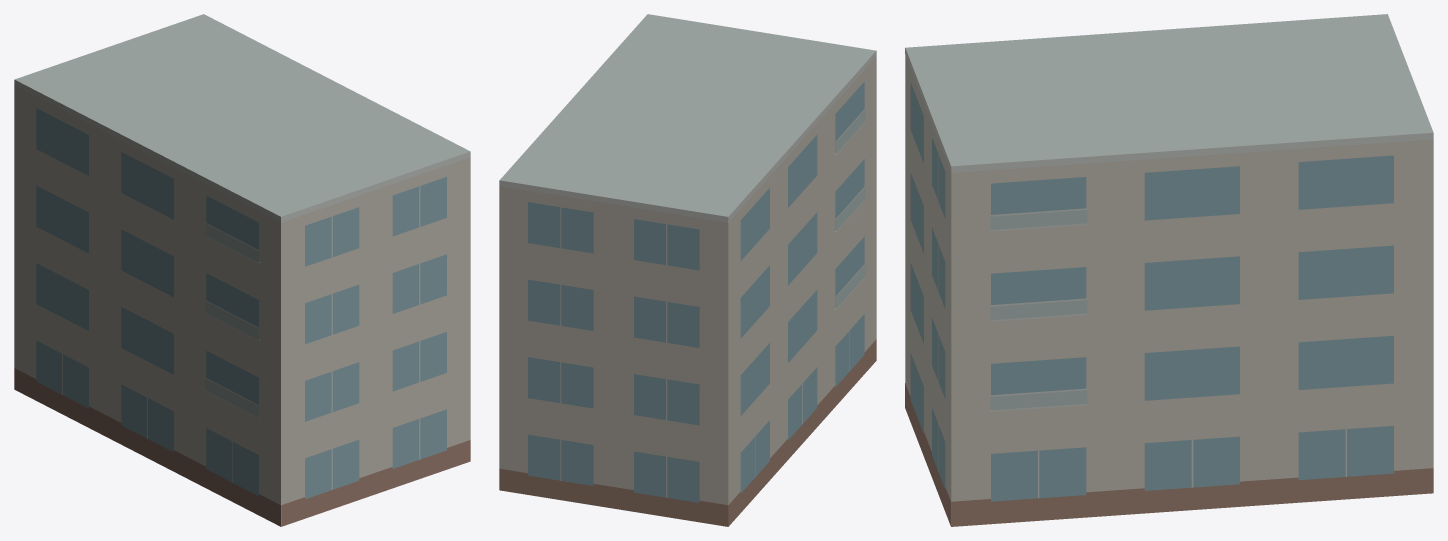
File: survey-upis-32838975.glb
3 renders of one model, left to right at view 1: azimuth 30°, elevation 25°; view 2: azimuth 150°, elevation 25°; view 3: azimuth 270°, elevation 25°, orthographic. The views are drawn at different scales.
Parts seen in each view (by area): view 1: survey-upis-32838975.tmp; view 2: survey-upis-32838975.tmp; view 3: survey-upis-32838975.tmp.
Part boxes in pixels (x1,y1,x2,y2): survey-upis-32838975.tmp: (14,14,470,526); survey-upis-32838975.tmp: (499,14,876,526); survey-upis-32838975.tmp: (905,14,1433,526).
Size of the model in its own units: 11.88 by 13.1 by 17.41.
